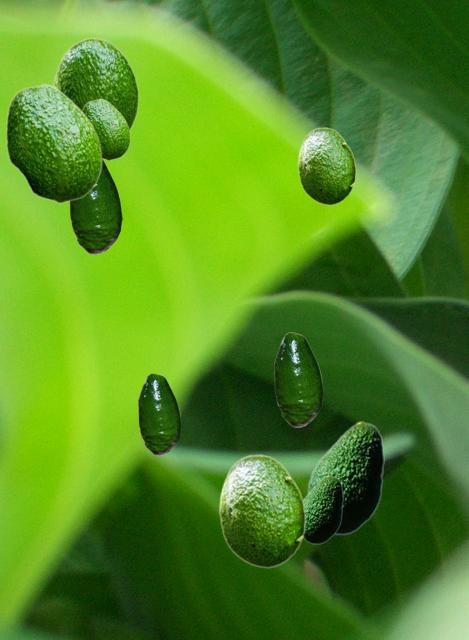avocado: (5, 83, 101, 202), (218, 454, 305, 567), (307, 421, 383, 534), (52, 37, 138, 131), (69, 160, 121, 253), (274, 332, 322, 426), (297, 127, 355, 204), (138, 373, 180, 454), (82, 98, 129, 159), (304, 475, 342, 543)
